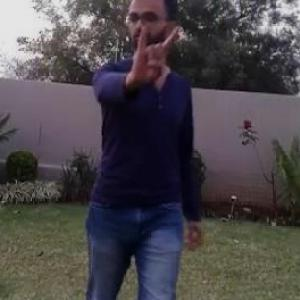takeoff-hand: (123, 17, 185, 96)
